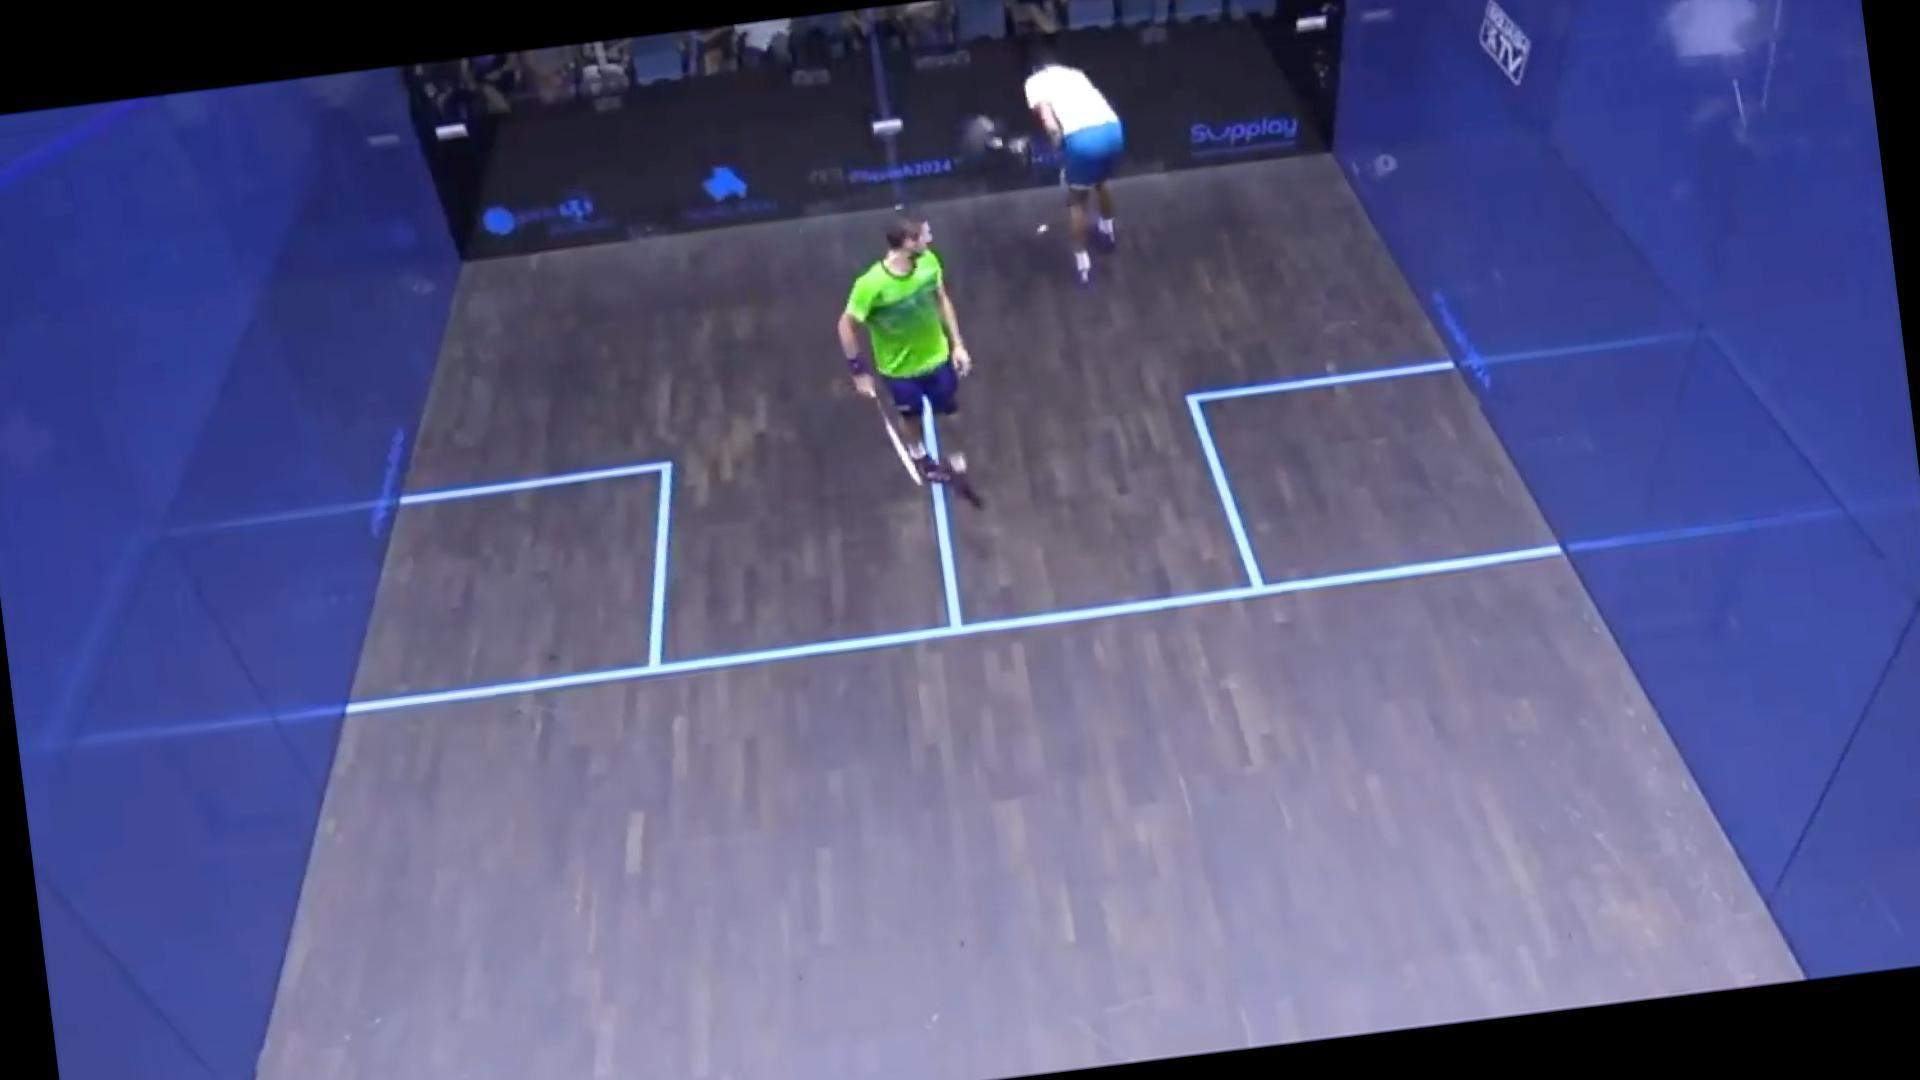Squash-Ball: (1029, 216, 1054, 239)
